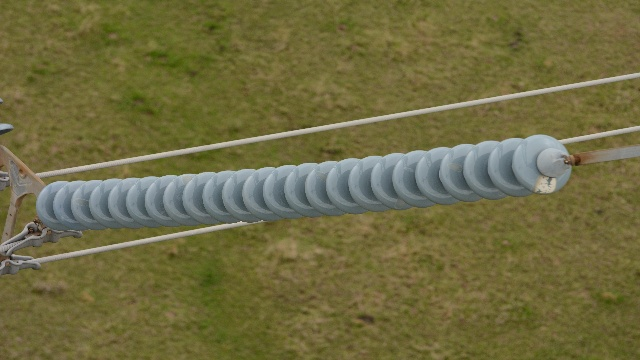insulator_unspecified: (35, 134, 572, 231)
pollution_flashover_local: (534, 171, 559, 197)
